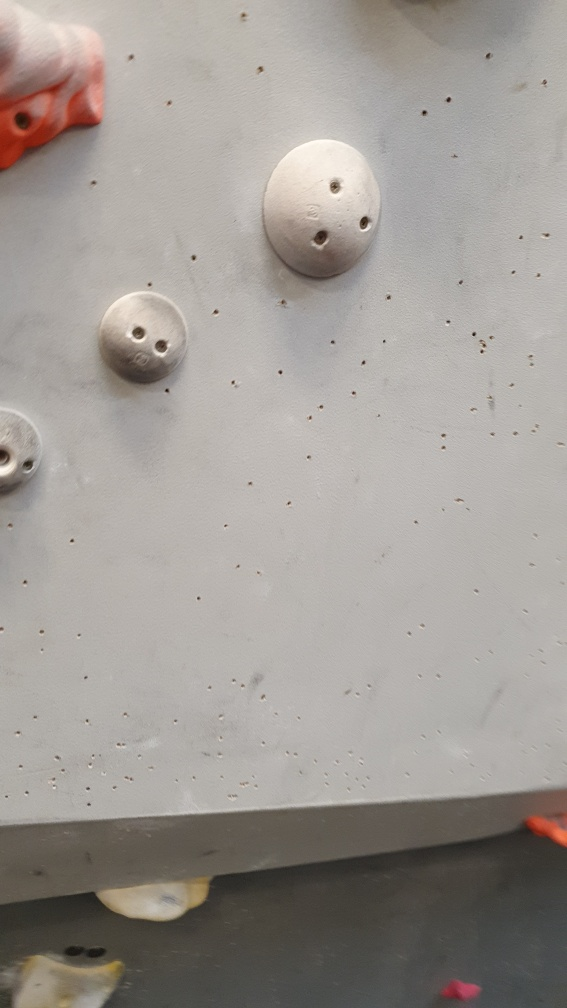Hand Start: (84, 938, 109, 963), (62, 940, 84, 961)
Jug: (1, 1, 114, 176), (525, 800, 567, 852)
Sloper: (261, 139, 386, 280), (99, 288, 188, 398), (1, 401, 52, 497)
